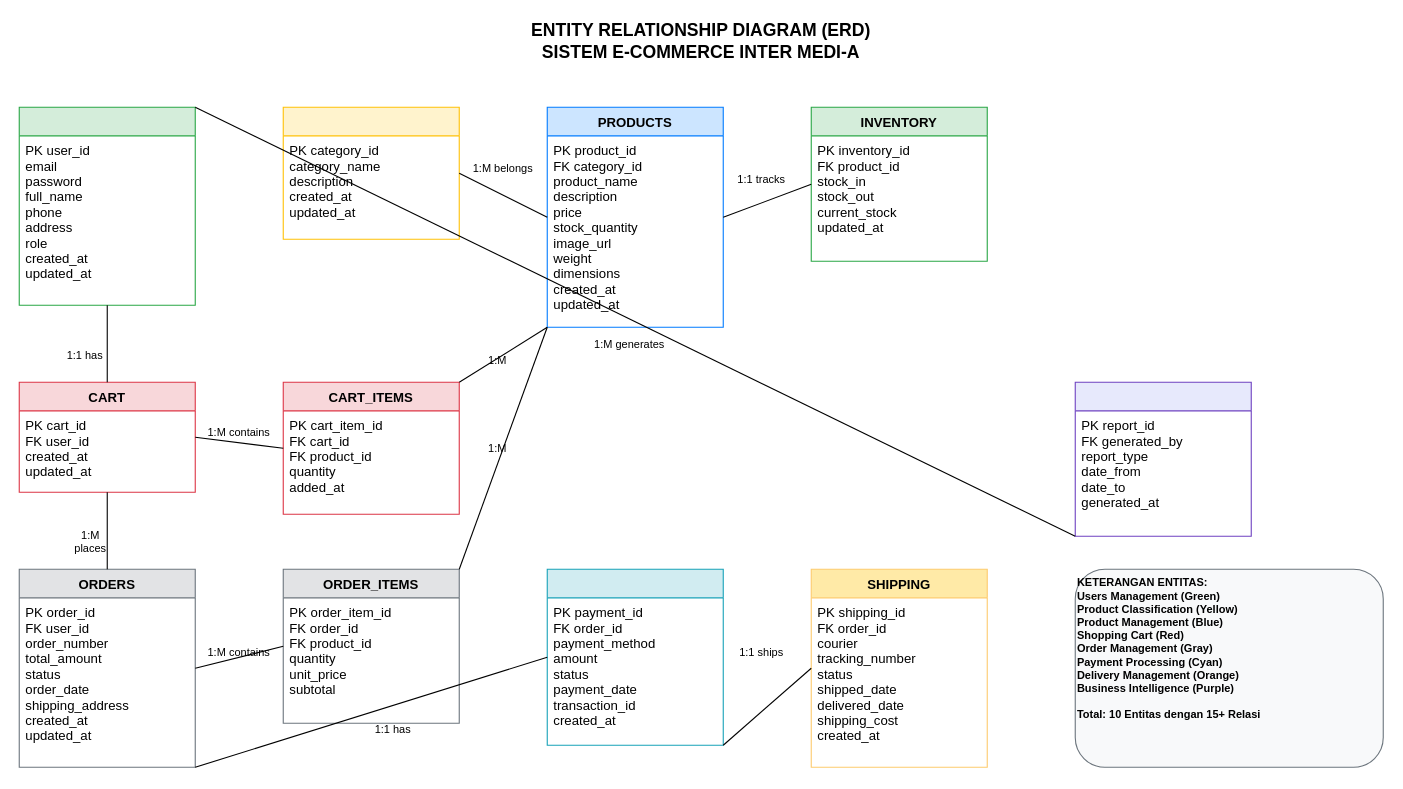
This 1403x789 diagram has some shape labels left out. Here are the shapes that lost their labels. From the top down, the box of each, then its label:
(282, 106, 459, 239): CATEGORIES
(18, 106, 195, 305): USERS
(1074, 381, 1251, 536): REPORTS
(546, 568, 723, 745): PAYMENTS
